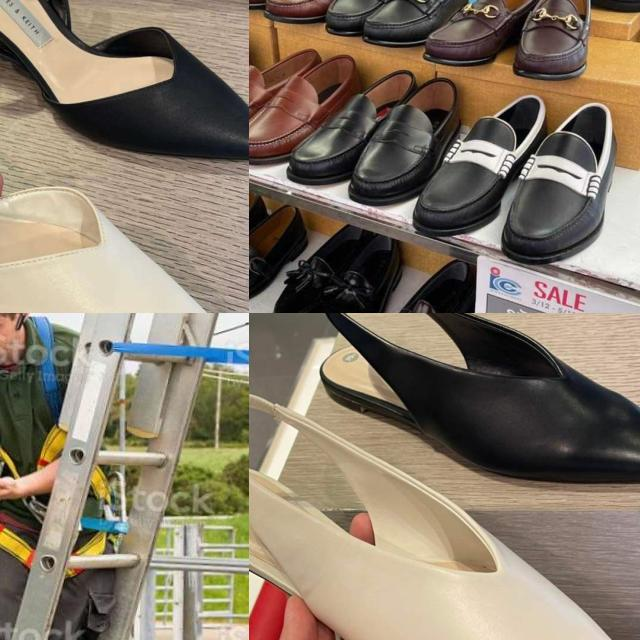Harness: (0, 314, 123, 587)
Sandals: (249, 371, 640, 640), (0, 26, 249, 313), (308, 313, 640, 503), (400, 69, 624, 276), (0, 0, 249, 175)
